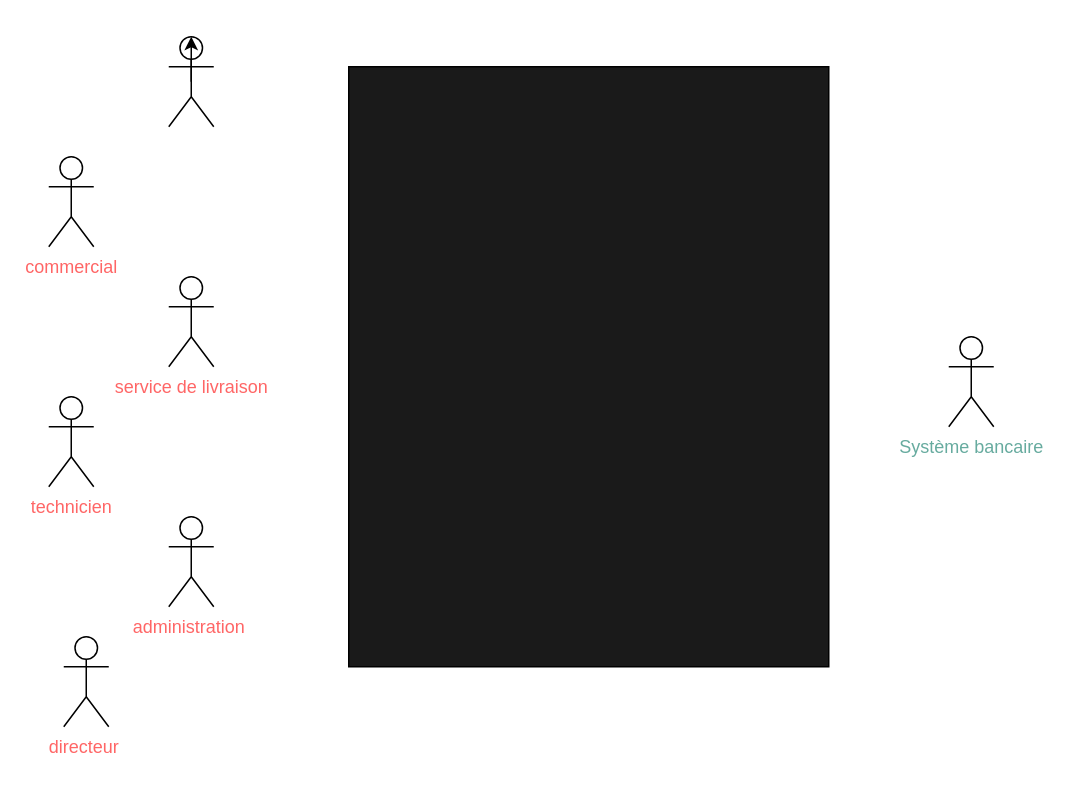
Some shapes in this 1070 by 785 pixel diagram are drawn without their labels. Here are the shapes that lost their labels. From the top down, the centre of each, then its label:
At point (190, 81): "Client".
At point (588, 366): "Système".
